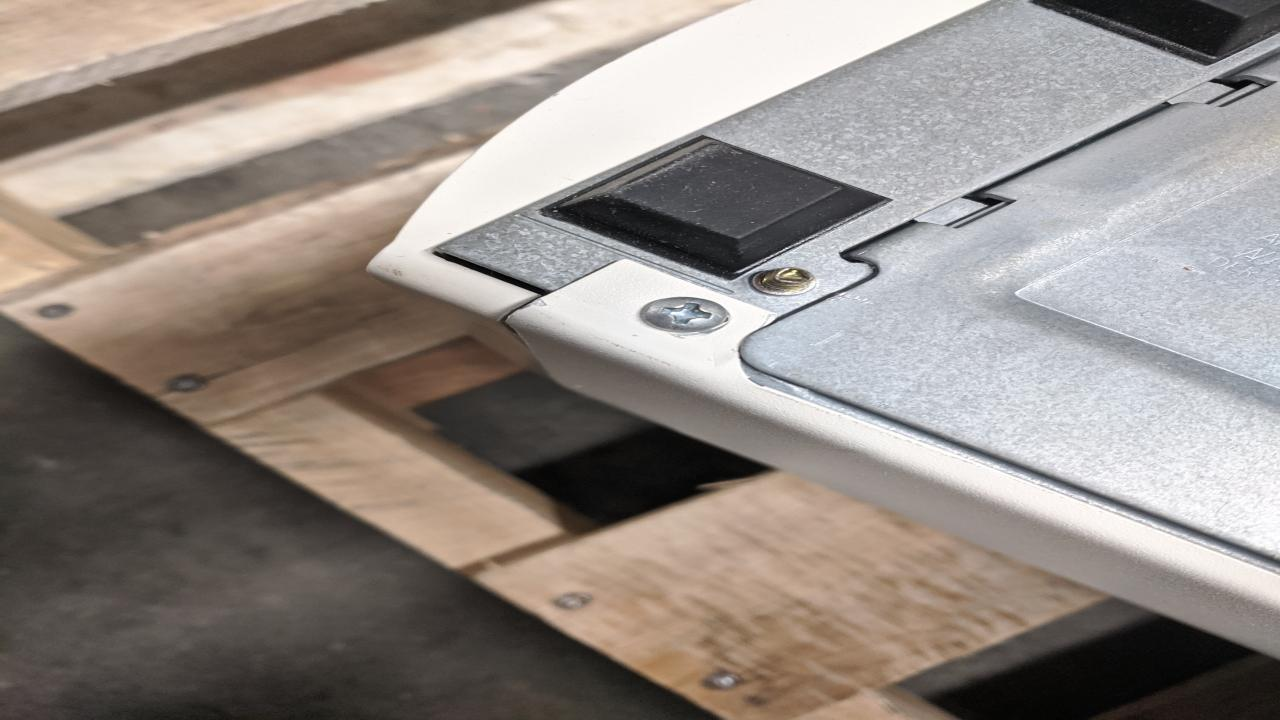CRS: (637, 294, 732, 336)
